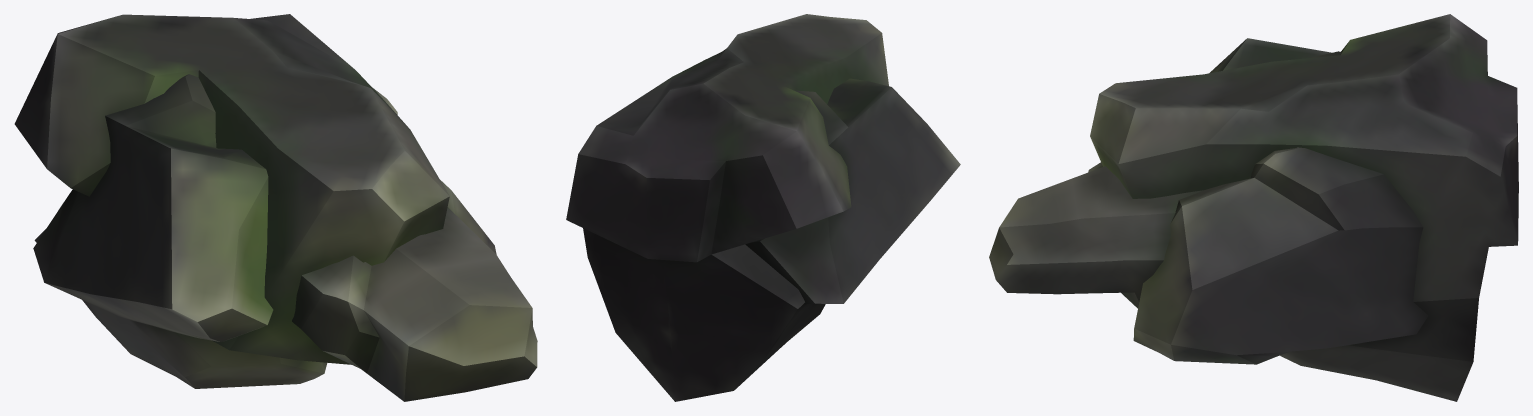
File: Rock_3.glb
3 renders of one model, left to right at view 1: azimuth 30°, elevation 25°; view 2: azimuth 150°, elevation 25°; view 3: azimuth 270°, elevation 25°, orthographic. The views are drawn at different scales.
Visible parts, largest first — view 1: Rock_3; view 2: Rock_3; view 3: Rock_3.
Boxes of the visible parts, x1,y1,x2,y2 form: Rock_3: (14, 14, 537, 401); Rock_3: (566, 14, 960, 401); Rock_3: (989, 14, 1518, 401).
Size of the model in its own units: 0.8436 by 0.8972 by 1.31.
1 material, 1 textured.
